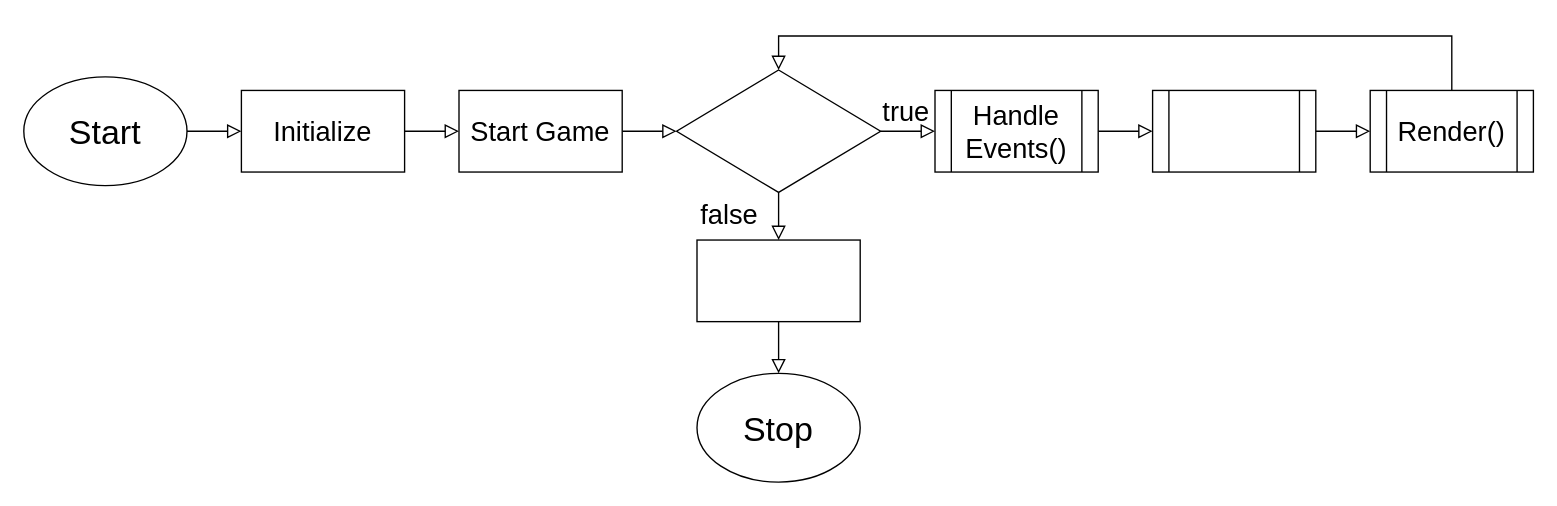
Image size: 1557x506. Some labels were removed from this diagram. Here are the shapes that lost their labels. From the top down, the centre of each, then its label:
At (778,130): "isRunning()".
At (1233,130): "Update()".
At (778,280): "Quit Game".
